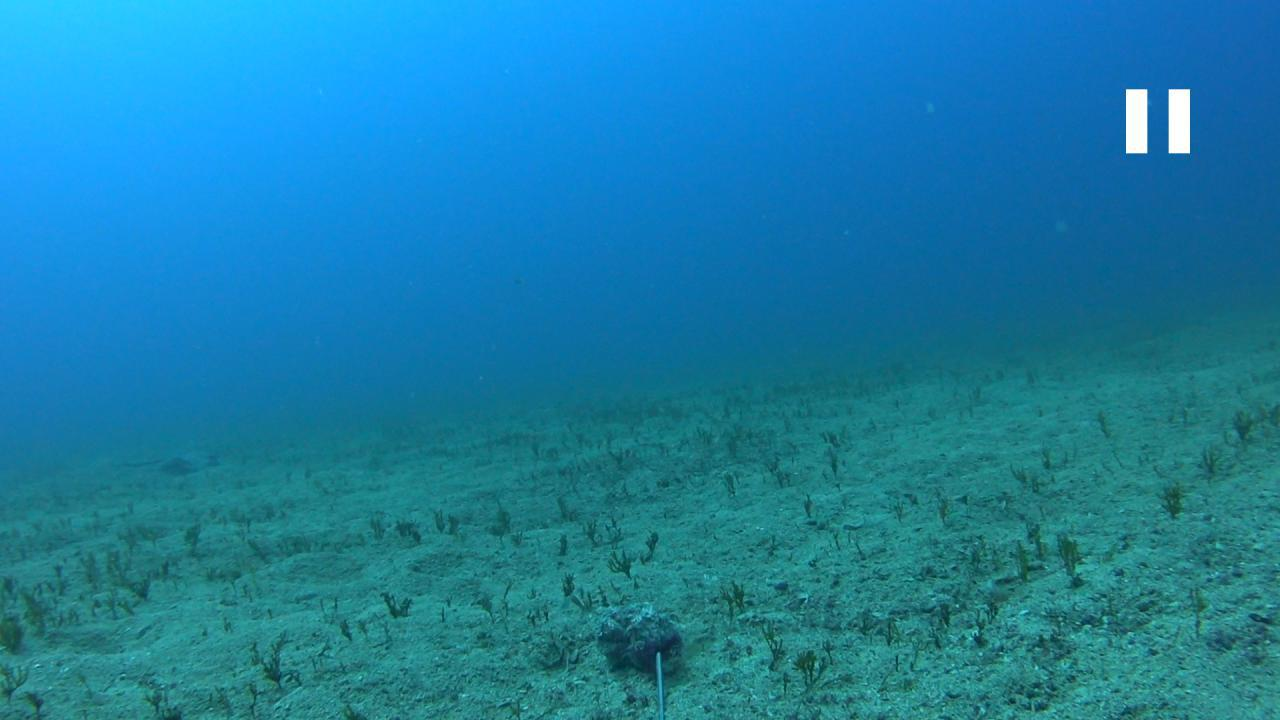dasyatis: (116, 453, 218, 474)
